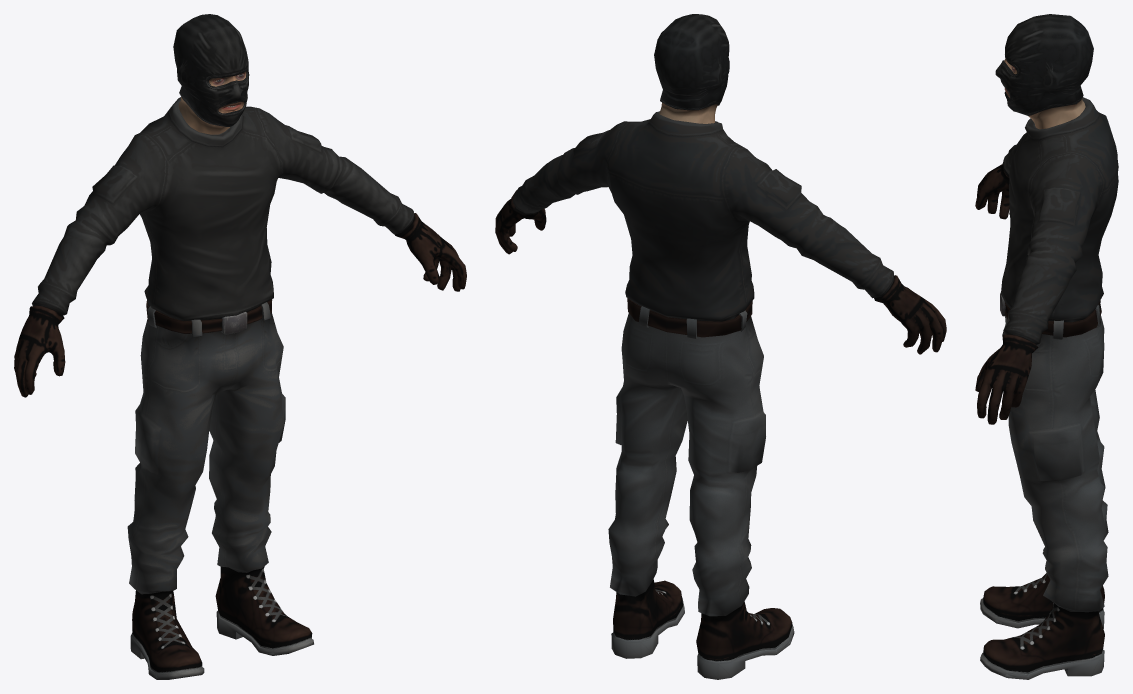
Rendered from robber.dae.
3 views of the same model, side by side, from view 1: azimuth 30°, elevation 25°; view 2: azimuth 150°, elevation 25°; view 3: azimuth 270°, elevation 25° (orthographic).
Visible parts, largest first — view 1: robber_all; view 2: robber_all; view 3: robber_all.
Boxes of the visible parts, x1,y1,x2,y2 form: robber_all: [14, 14, 466, 679]; robber_all: [495, 14, 946, 679]; robber_all: [975, 14, 1118, 679].
Size of the model in its own units: 1.36 by 0.3811 by 1.85.
2 materials, 2 textured.
